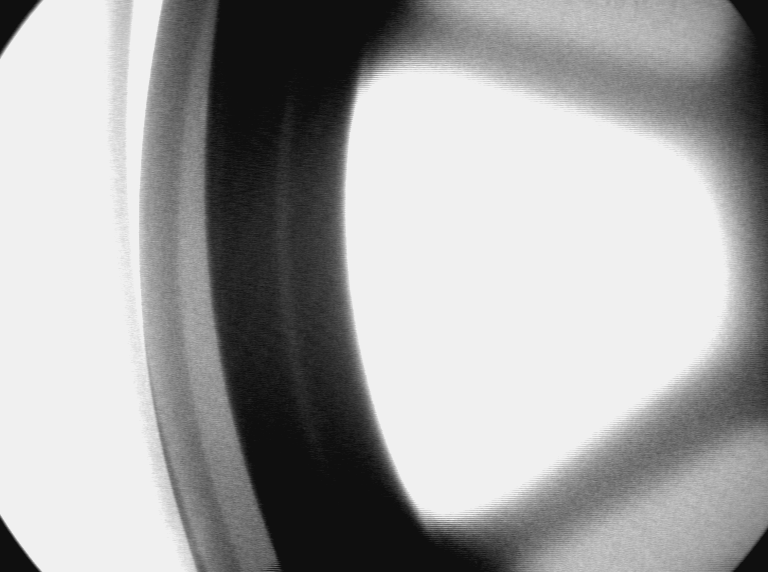defect: (197, 97, 217, 135)
